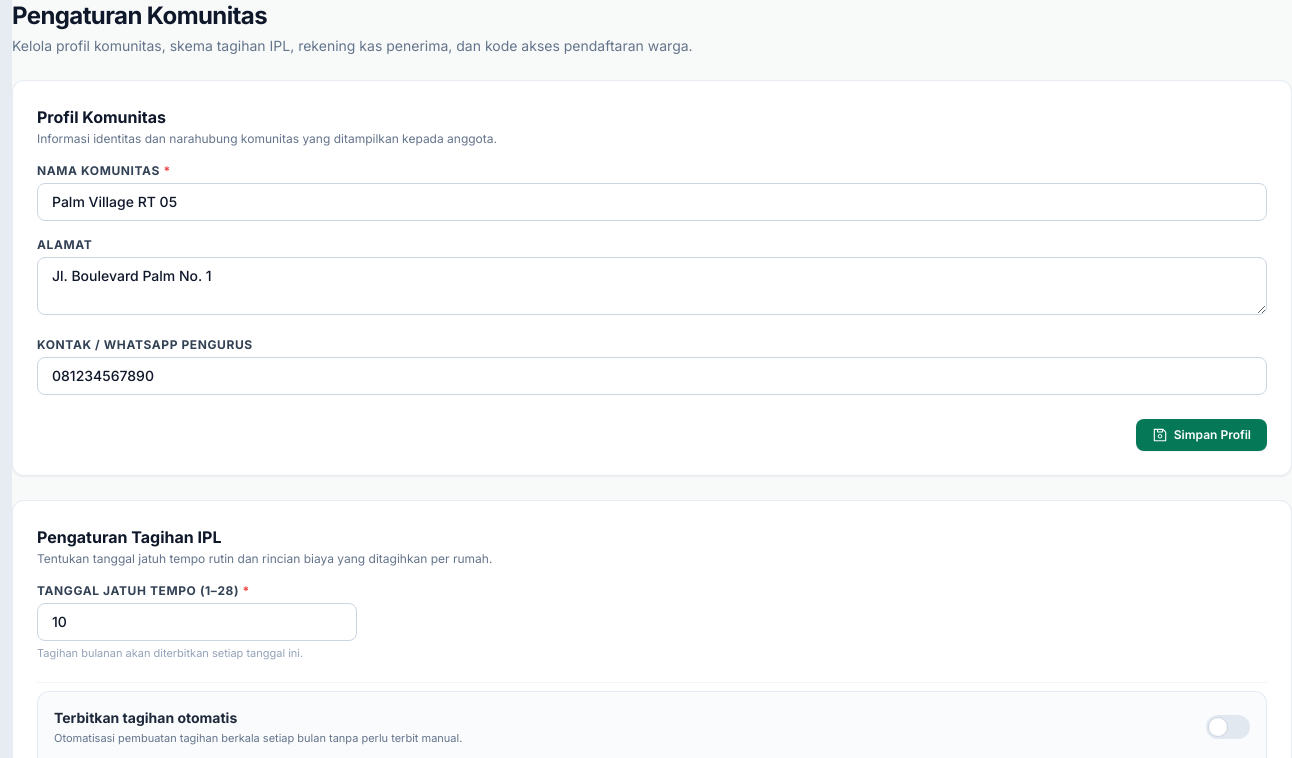
it: TenantSettings (RTRW-2.4) › Penerbitan Tagihan Otomatis (BILL-AUTO-1.2) › d. peringatan muncul bila tanggal terbit lebih besar dari jatuh tempo dan tidak tampil saat toggle mati
The width and height of the screenshot is (1292, 758).
Expected: the field showing "Palm Village RT 05" is shown, [37,183,1267,221]
Click the checkbox labelled "Terbitkan tagihan otomatis": x=146, y=717 [54,708,237,726]
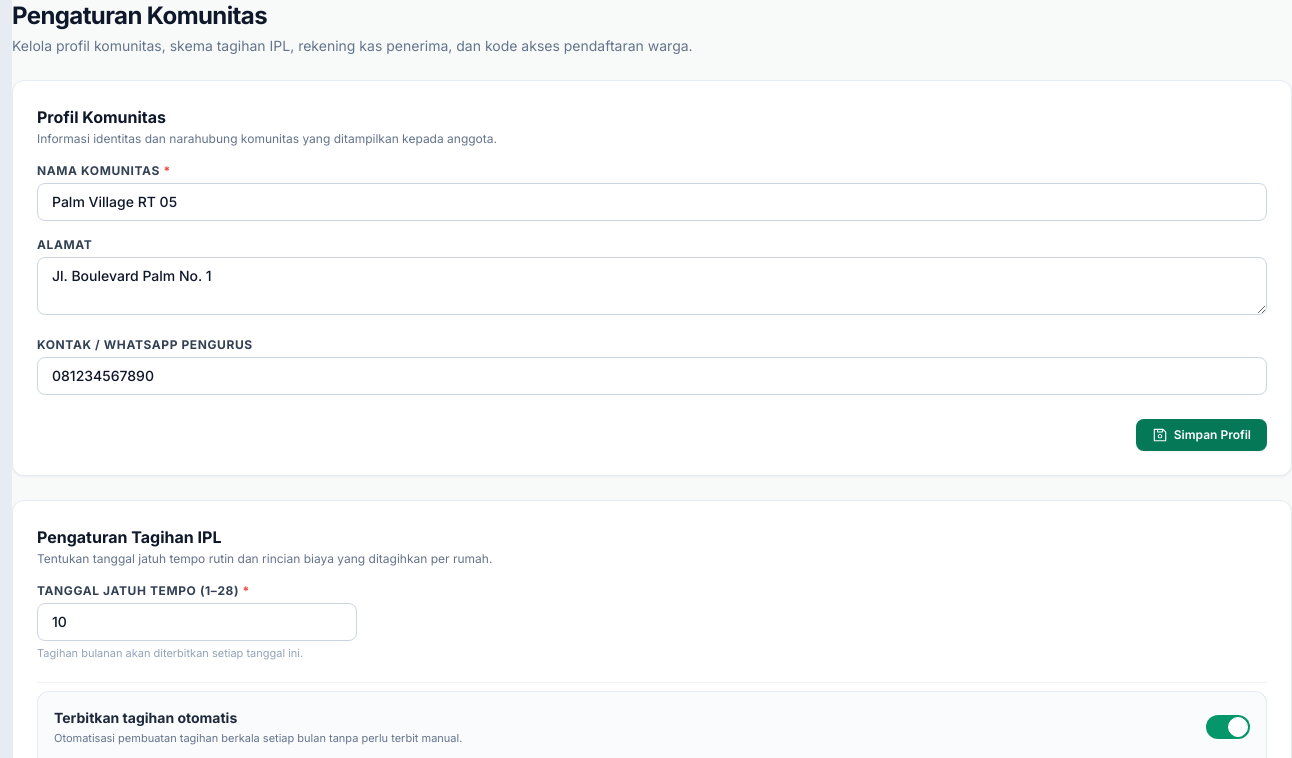
Click the checkbox labelled "Terbitkan tagihan otomatis": x=146, y=717 [54,708,237,726]
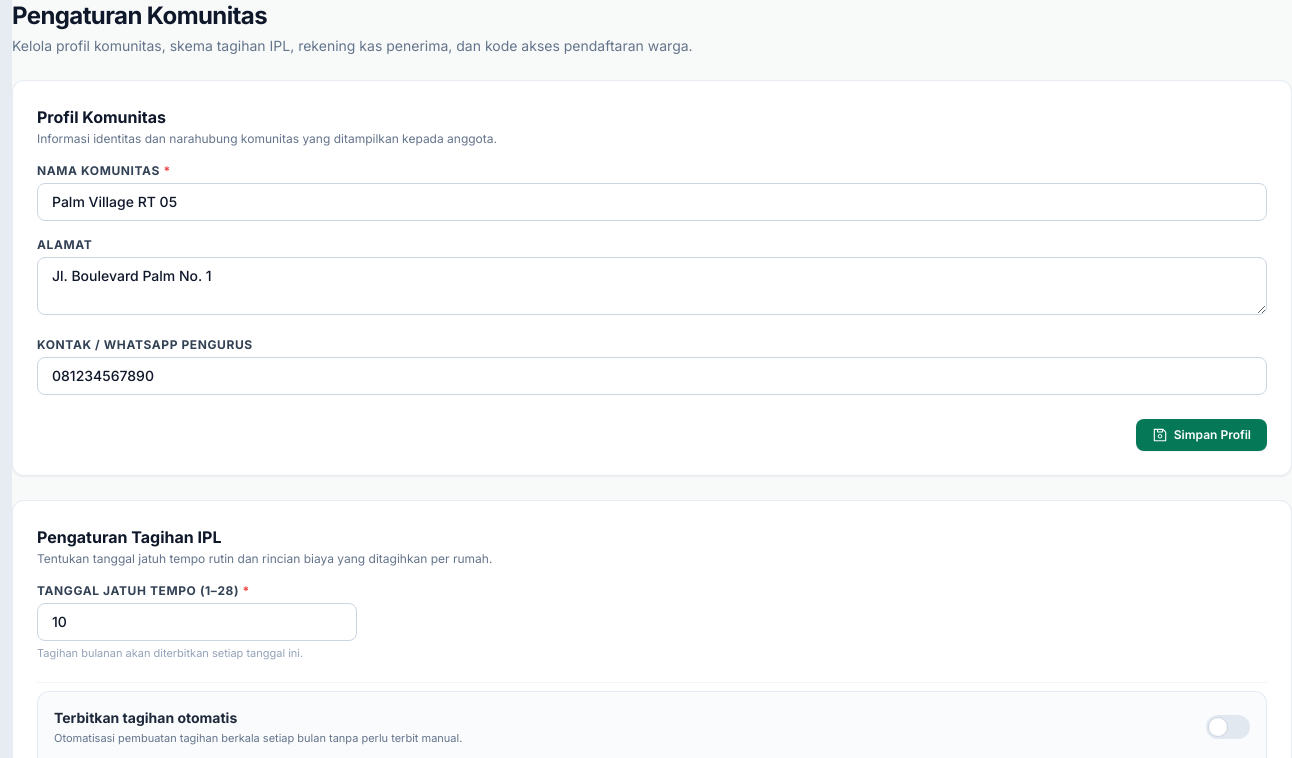
Note: Toggle ON kembali
Click the checkbox labelled "Terbitkan tagihan otomatis": x=146, y=717 [54,708,237,726]
(page scrolled)
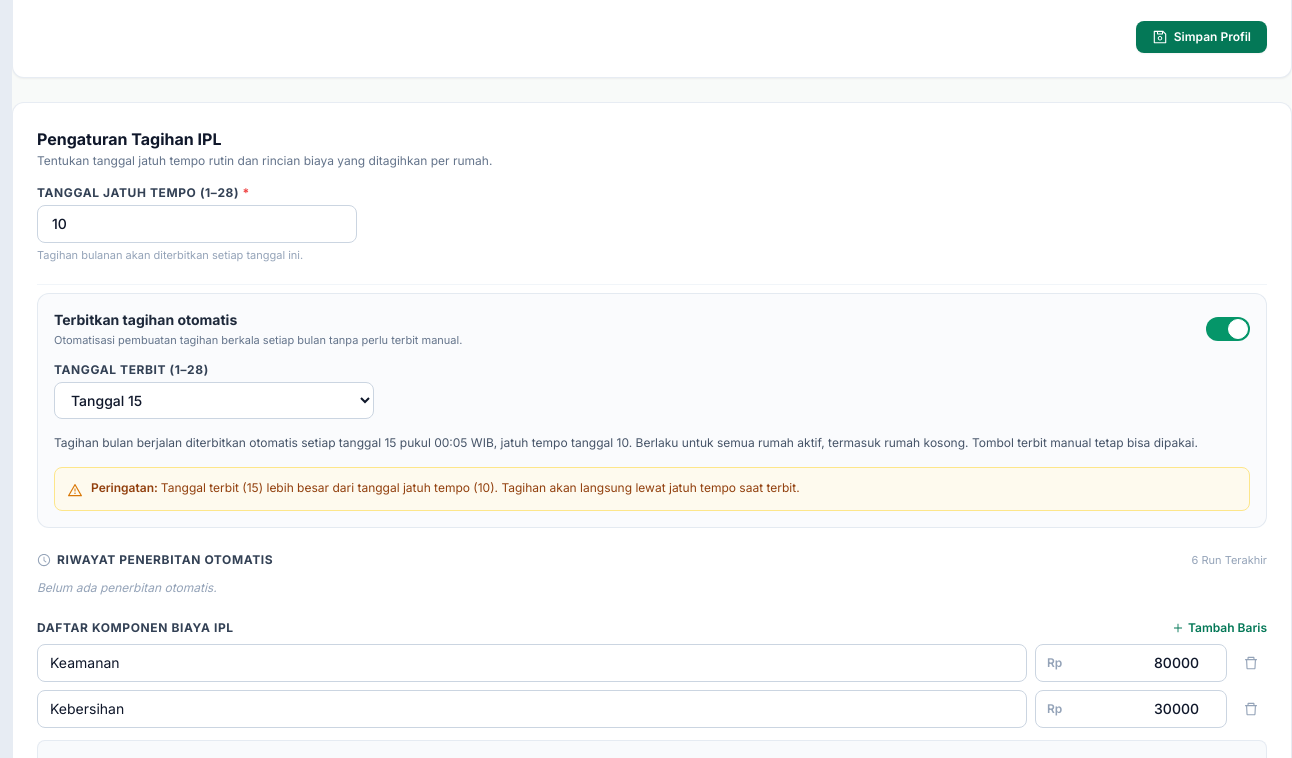
Expected: the checkbox labelled "Terbitkan tagihan otomatis" is checked, [54,310,237,328]
Expected: the text "tagihan akan langsung lewat jatuh tempo saat terbit" is shown, [490,480,800,494]
Select "Tanggal 5" in the dropdown labelled "Tanggal Terbit (1–28)": x=214, y=400 [54,382,374,419]
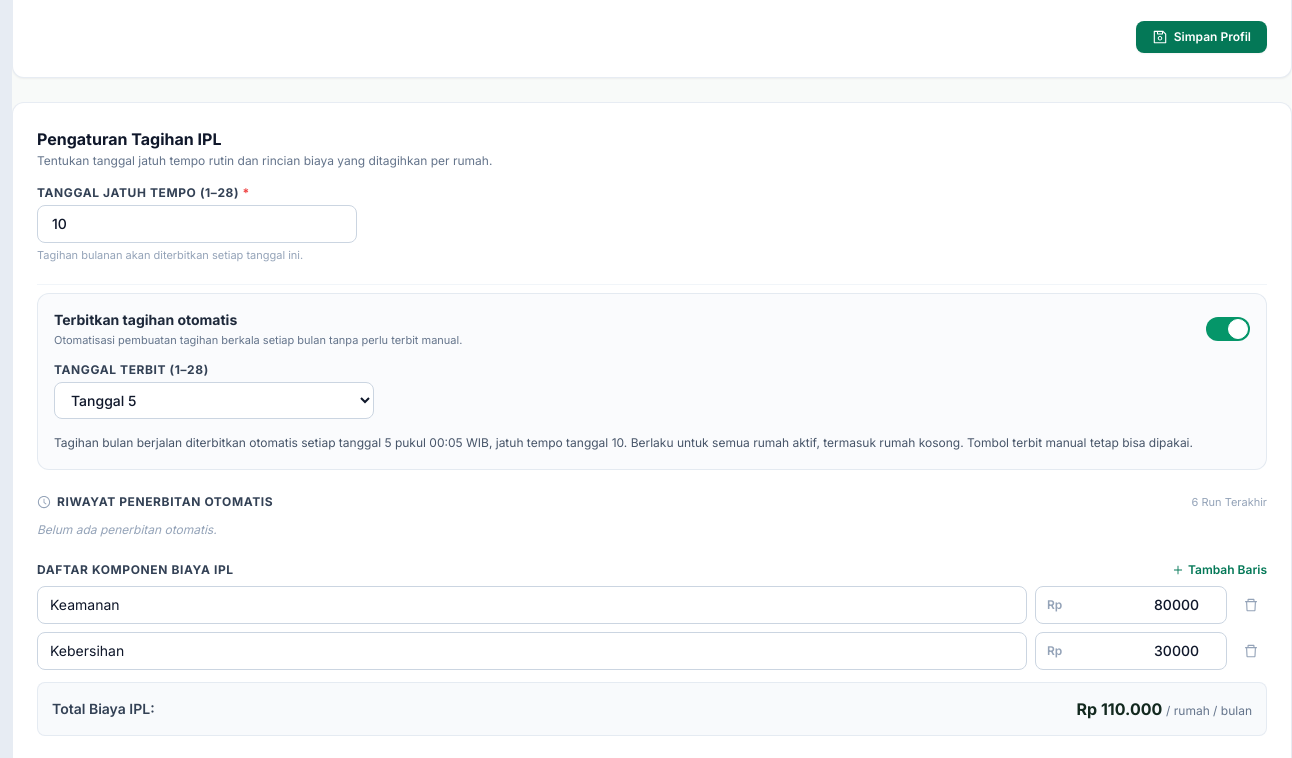
Expected: the text "tagihan akan langsung lewat jatuh tempo saat terbit" is gone
